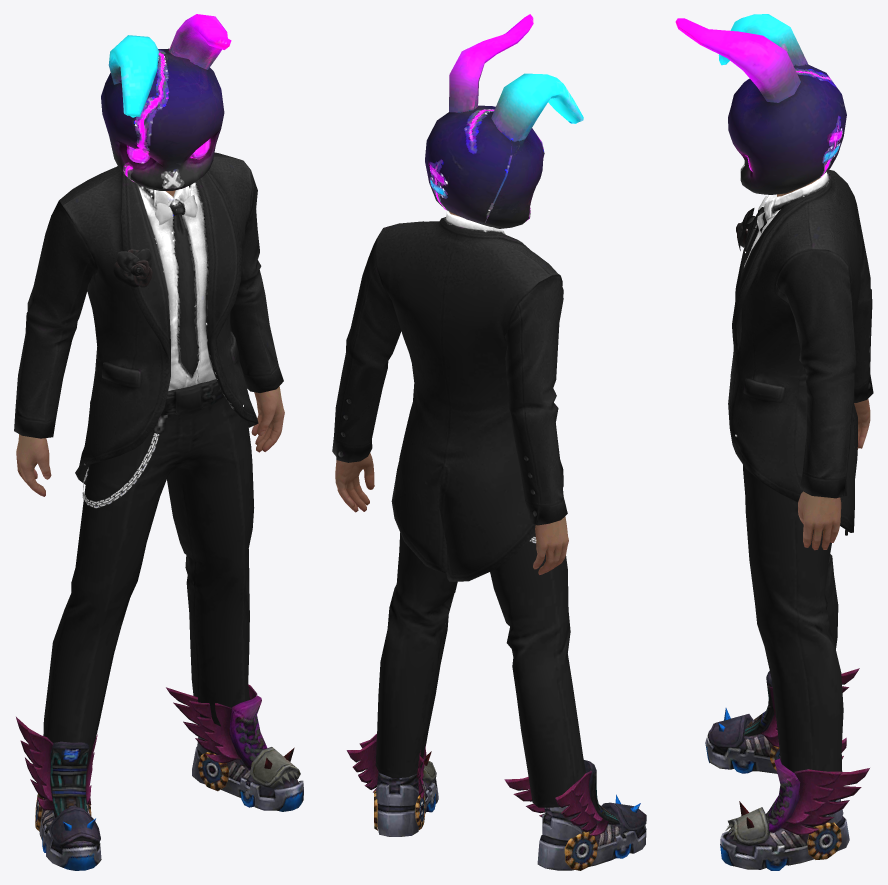
The model's file is enemy1.glb.
The picture shows the model from 3 angles, left to right: view 1: azimuth 30°, elevation 25°; view 2: azimuth 150°, elevation 25°; view 3: azimuth 270°, elevation 25°; orthographic projection. The views are drawn at different scales.
Visible parts, largest first — view 1: Triple R shirt, Triple R pant, Triple R shoe, Triple R head, Triple R body; view 2: Triple R shirt, Triple R pant, Triple R head, Triple R shoe, Triple R body; view 3: Triple R shirt, Triple R pant, Triple R head, Triple R shoe, Triple R body.
Part boxes in pixels (x1=…): Triple R shirt: x1=14, y1=152, x2=283, y2=484; Triple R pant: x1=43, y1=379, x2=254, y2=764; Triple R shoe: x1=16, y1=684, x2=303, y2=870; Triple R head: x1=101, y1=14, x2=231, y2=190; Triple R body: x1=16, y1=190, x2=284, y2=496; Triple R shirt: x1=332, y1=211, x2=567, y2=581; Triple R pant: x1=375, y1=533, x2=585, y2=807; Triple R head: x1=425, y1=14, x2=583, y2=228; Triple R shoe: x1=346, y1=734, x2=646, y2=870; Triple R body: x1=335, y1=211, x2=568, y2=574; Triple R shirt: x1=728, y1=169, x2=873, y2=535; Triple R pant: x1=743, y1=465, x2=843, y2=774; Triple R head: x1=675, y1=14, x2=846, y2=194; Triple R shoe: x1=705, y1=668, x2=869, y2=870; Triple R body: x1=777, y1=177, x2=870, y2=550.
Bounding box in the file's own units: 0.4428 × 1.27 × 0.2841.
5 materials, 5 textured.
